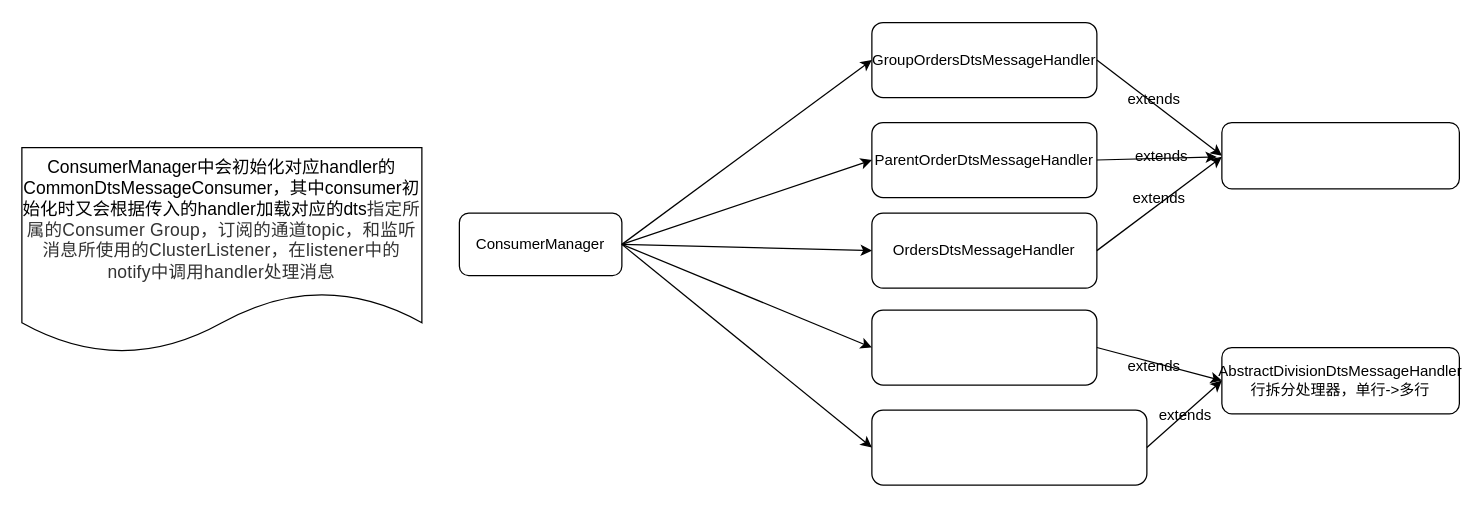
Image size: 1484x506. Some labels were removed from this diagram. The box of each missing label's shape, as (x1, y1, x2, y2) in pixels:
AbstractBaseDtsMessageHandler 基础处理器，单行->单行: (1221, 121, 1459, 189)
GroupOrderDivisionHandler: (871, 309, 1097, 385)
OrderUnpayDivisionDtsMessageHandler: (871, 409, 1147, 485)
